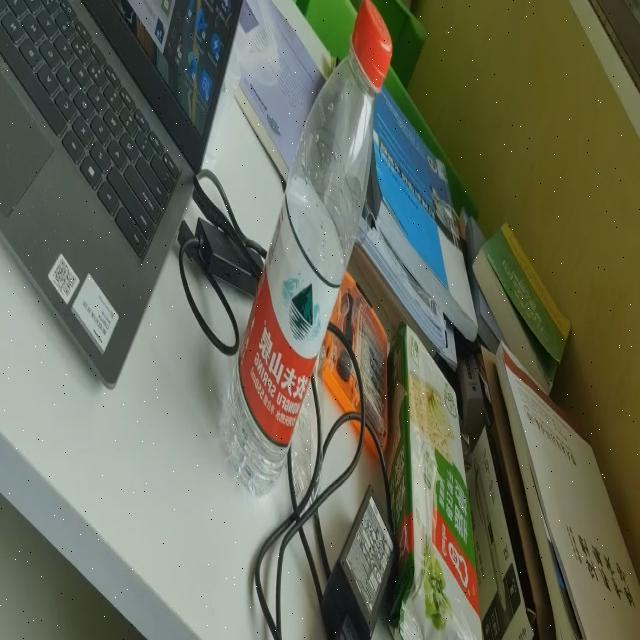bottle: (226, 0, 395, 491)
cap: (345, 7, 393, 82)
label: (236, 226, 350, 442)
